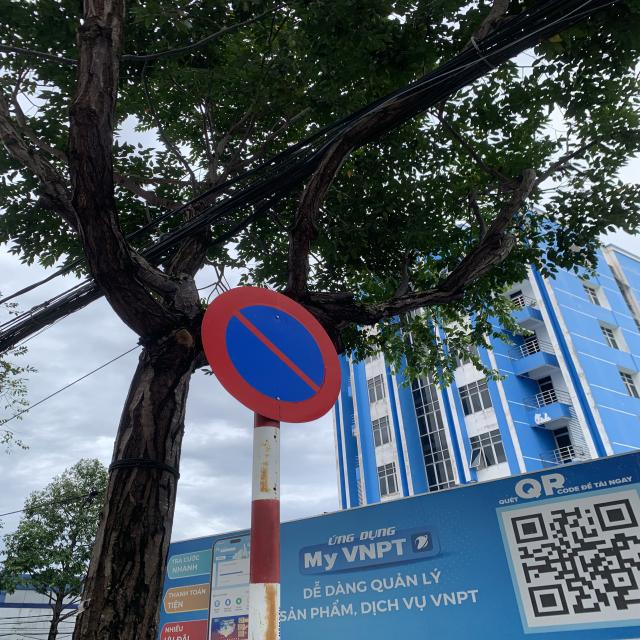Cam_Dau_Xe: (200, 286, 342, 424)
